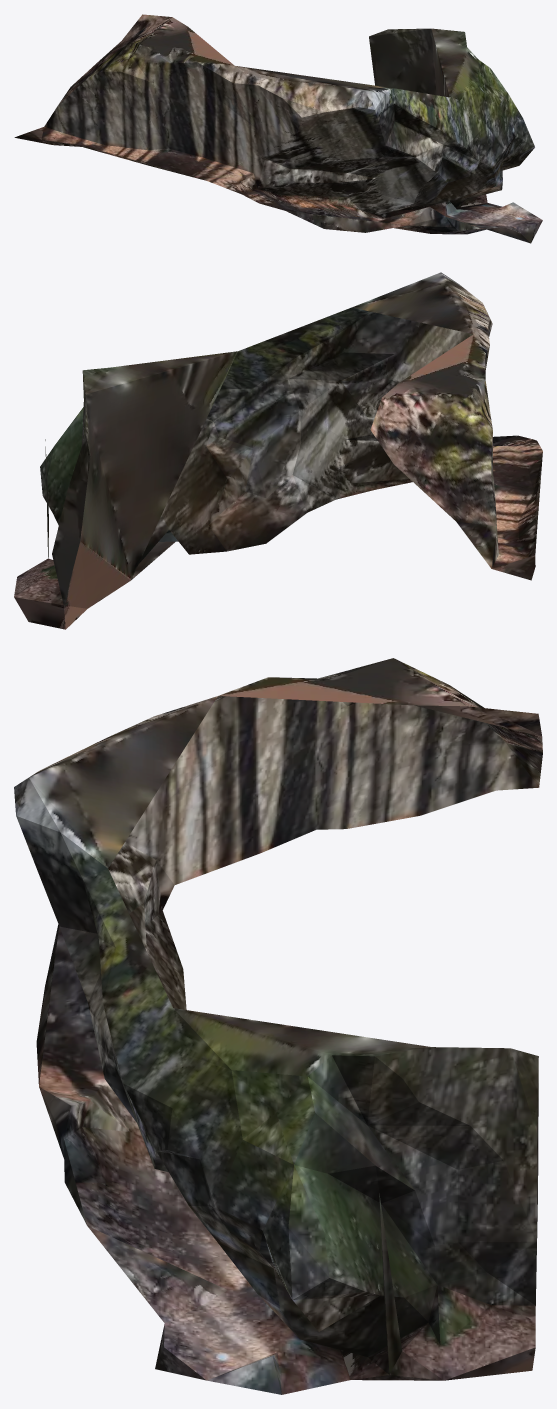
File: Blausee_Drytoolblock_LOD2.glb
3 renders of one model, top to bottom at view 1: azimuth 30°, elevation 25°; view 2: azimuth 150°, elevation 25°; view 3: azimuth 270°, elevation 25°, orthographic. The views are drawn at different scales.
Parts seen in each view (by area): view 1: Drytoolblock_LOD2; view 2: Drytoolblock_LOD2; view 3: Drytoolblock_LOD2.
Boxes of the visible parts, <box> form: Drytoolblock_LOD2: <box>14,14,542,243</box>; Drytoolblock_LOD2: <box>14,272,542,629</box>; Drytoolblock_LOD2: <box>14,658,542,1394</box>.
Size of the model in its own units: 32.3 by 16.06 by 17.85.
Materials: 1 (1 with a texture image).
